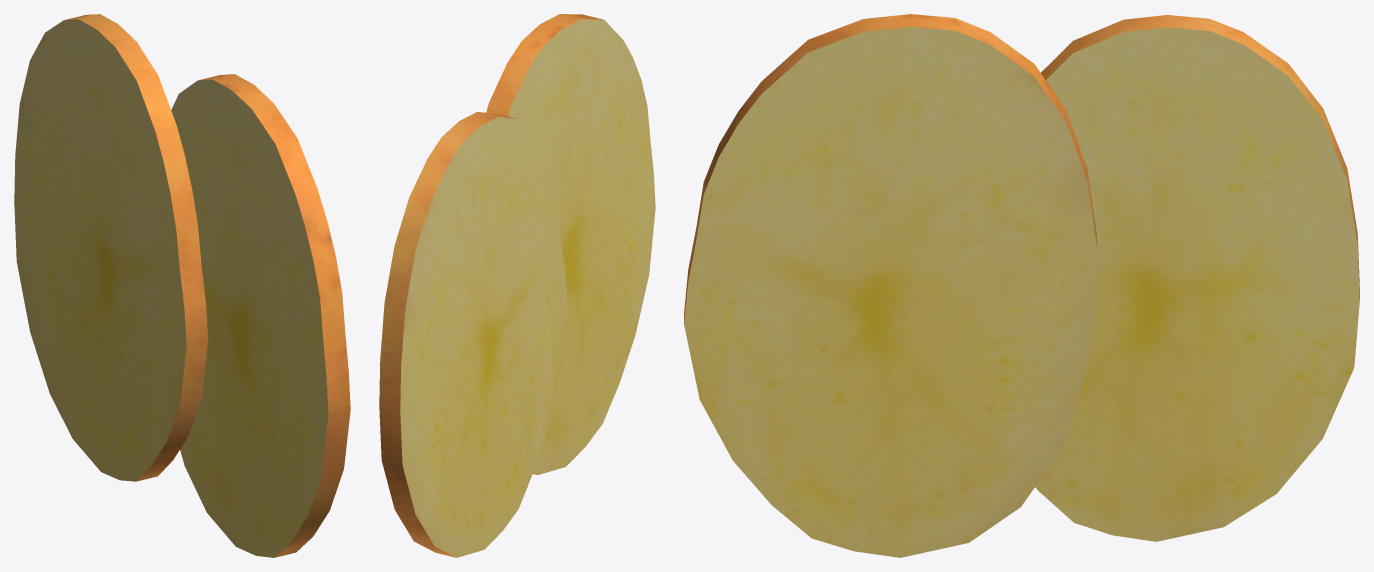
The model's file is RawPotato_Geo_V0.fbx.
3 renders of one model, left to right at view 1: azimuth 30°, elevation 25°; view 2: azimuth 150°, elevation 25°; view 3: azimuth 270°, elevation 25°, orthographic. The views are drawn at different scales.
Parts seen in each view (by area): view 1: RawPotatoSlice_Geo_V0_1; view 2: RawPotatoSlice_Geo_V0_1; view 3: RawPotatoSlice_Geo_V0_1.
Boxes of the visible parts, x1,y1,x2,y2 form: RawPotatoSlice_Geo_V0_1: (14,14,350,557); RawPotatoSlice_Geo_V0_1: (379,14,655,557); RawPotatoSlice_Geo_V0_1: (684,14,1359,557).
Bounding box in the file's own units: 4.38 × 39.74 × 45.81.
Materials: 1 (1 with a texture image).
